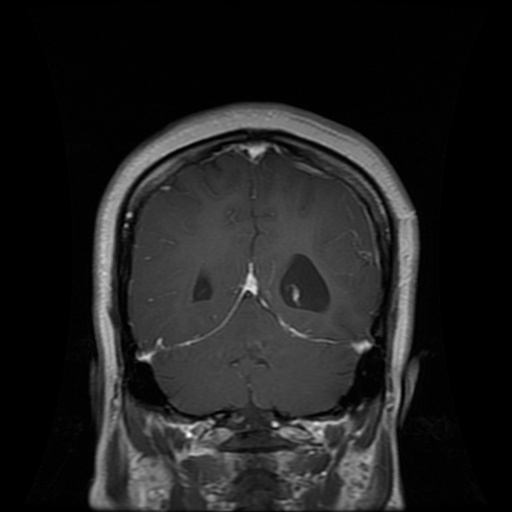glioma: (282, 249, 332, 310)
